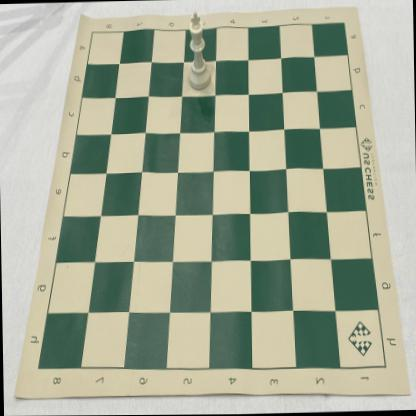white-king: (186, 10, 212, 90)
